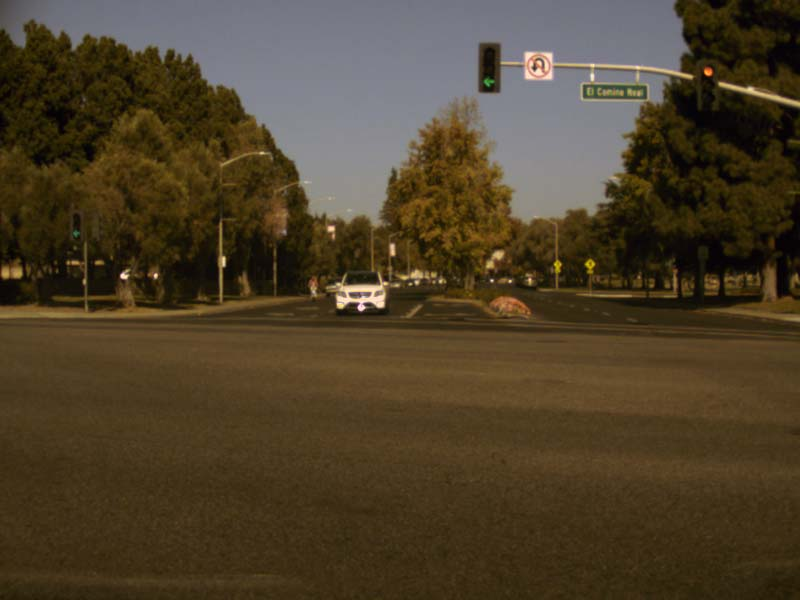Green: (478, 43, 499, 92), (70, 208, 83, 240)
Red: (696, 60, 719, 113)
